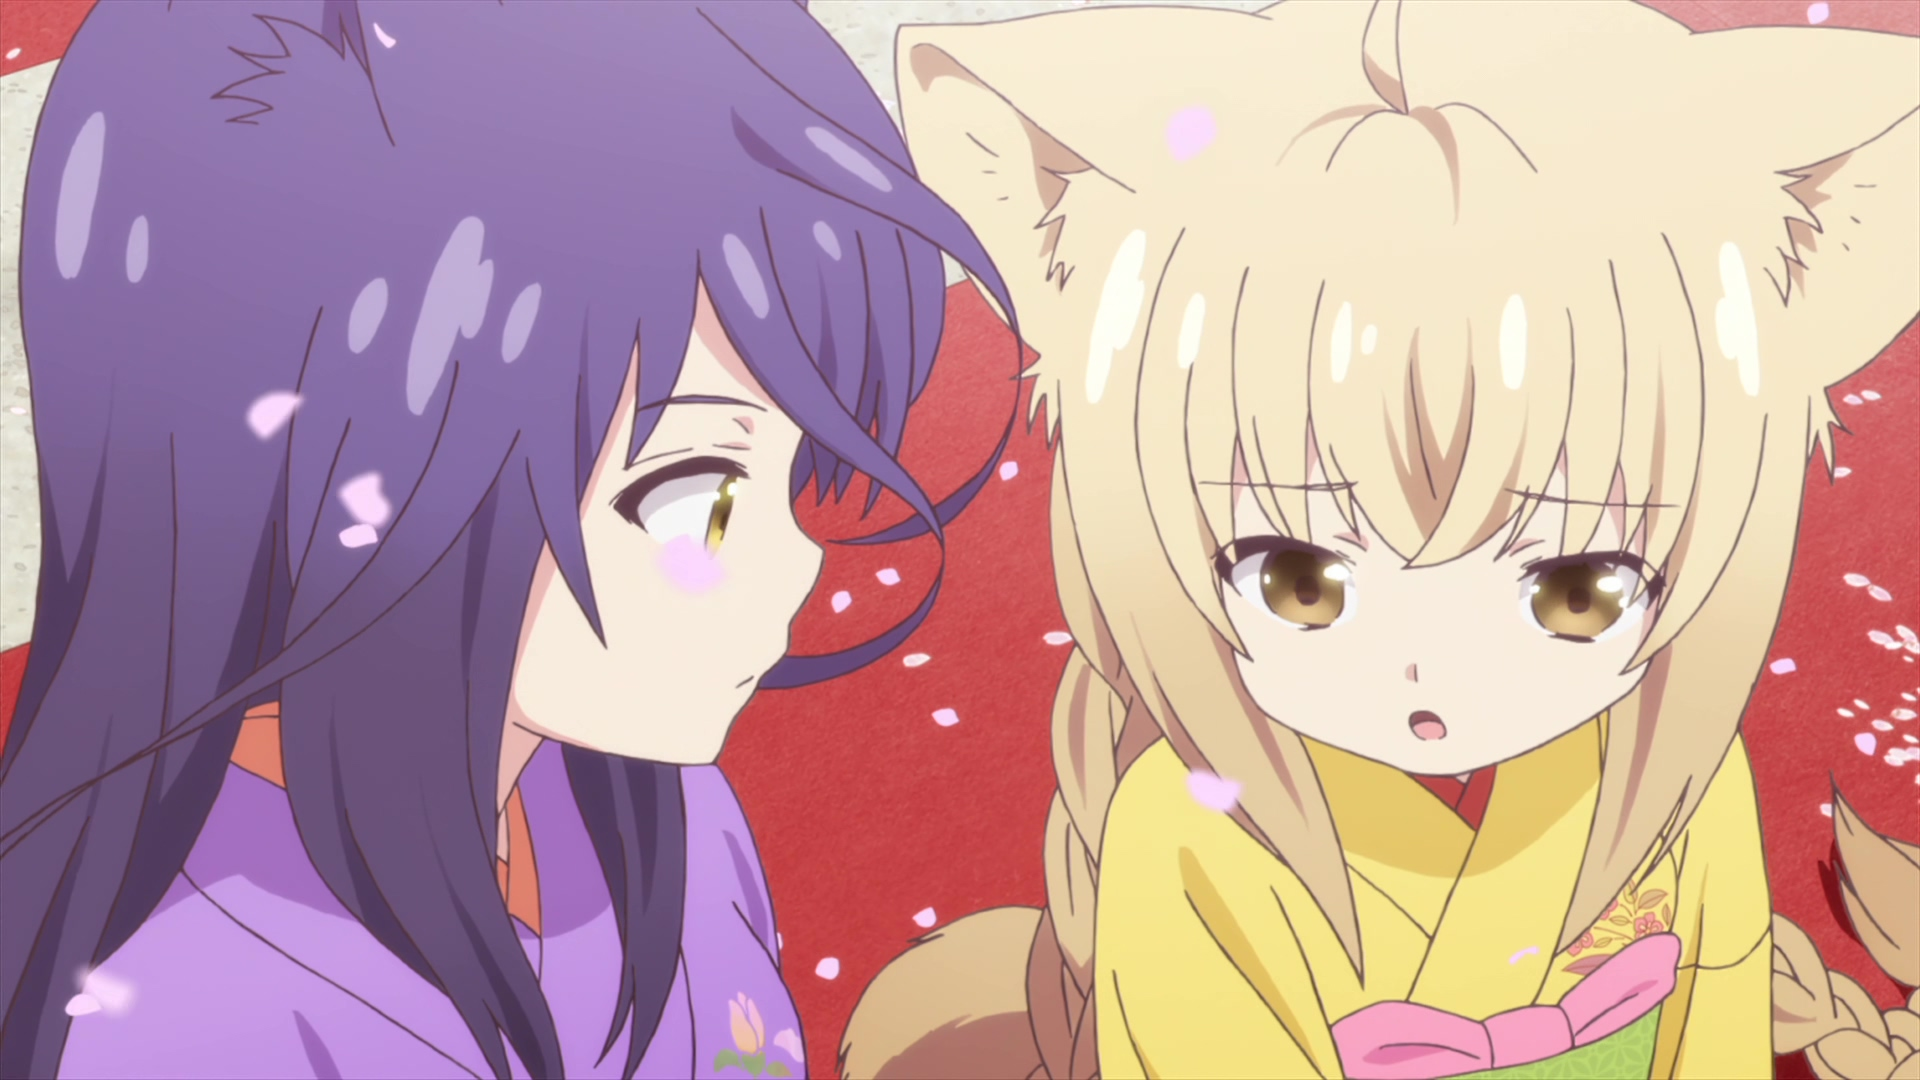柚: (837, 1, 1920, 1080)
皋: (1, 1, 1026, 1080)
